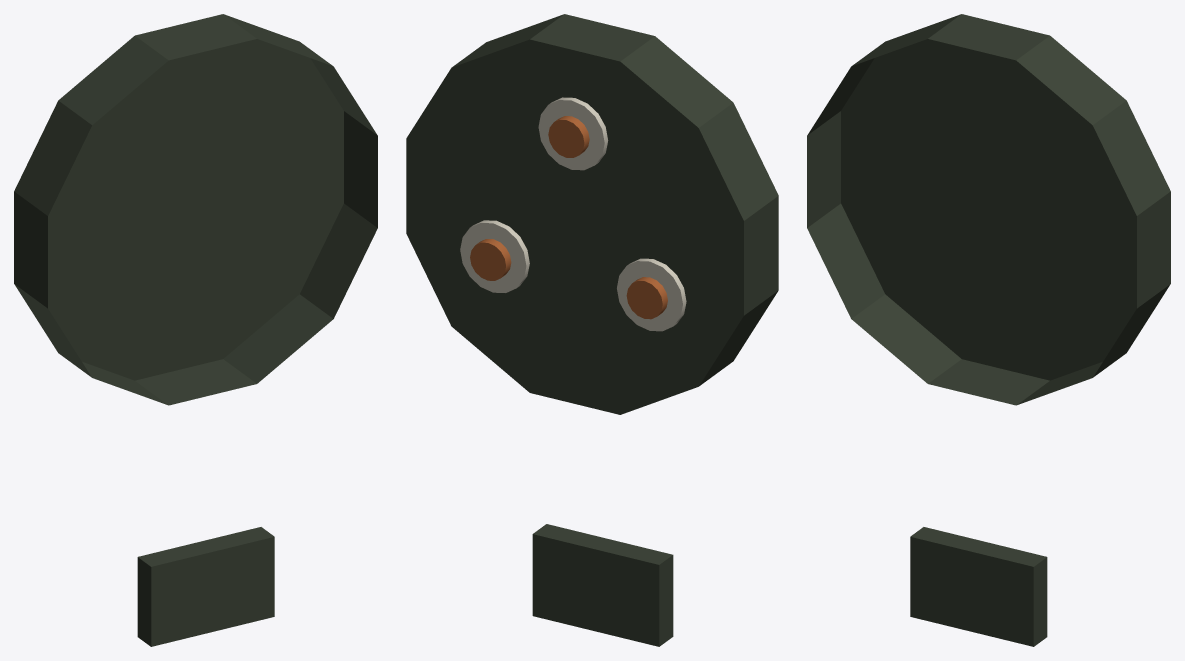
File: tz28v_busbar.obj
The picture shows the model from 3 angles, left to right: view 1: azimuth 30°, elevation 25°; view 2: azimuth 150°, elevation 25°; view 3: azimuth 330°, elevation 25°; orthographic projection. The views are drawn at different scales.
Parts seen in each view (by area): view 1: tz28v_busbar; view 2: tz28v_busbar; view 3: tz28v_busbar.
Part boxes in pixels (x1,y1,x2,y2): tz28v_busbar: [14, 14, 377, 646]; tz28v_busbar: [406, 14, 778, 646]; tz28v_busbar: [807, 14, 1170, 646].
Size of the model in its own units: 1.12 by 1.89 by 0.25.
